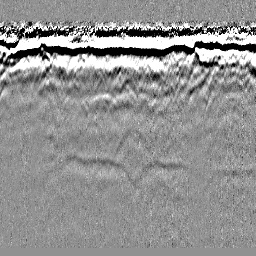cavity: (118, 75, 138, 99)
